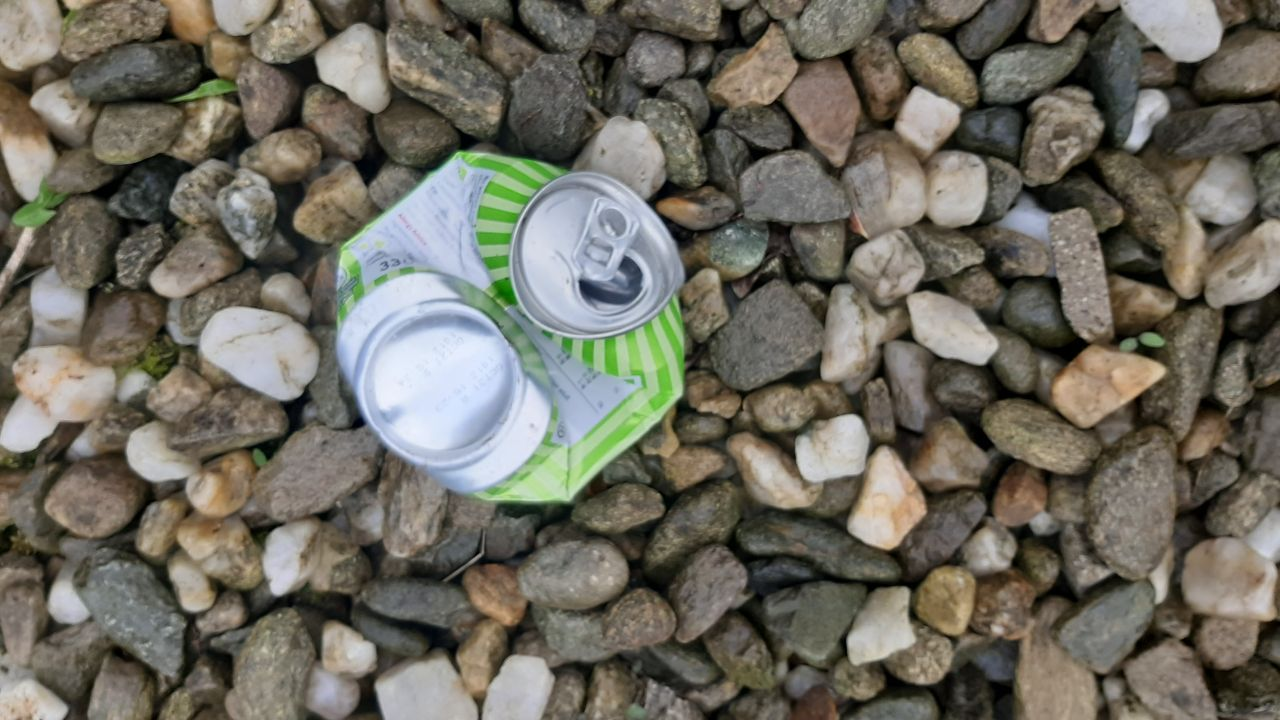Can: (328, 147, 685, 507)
